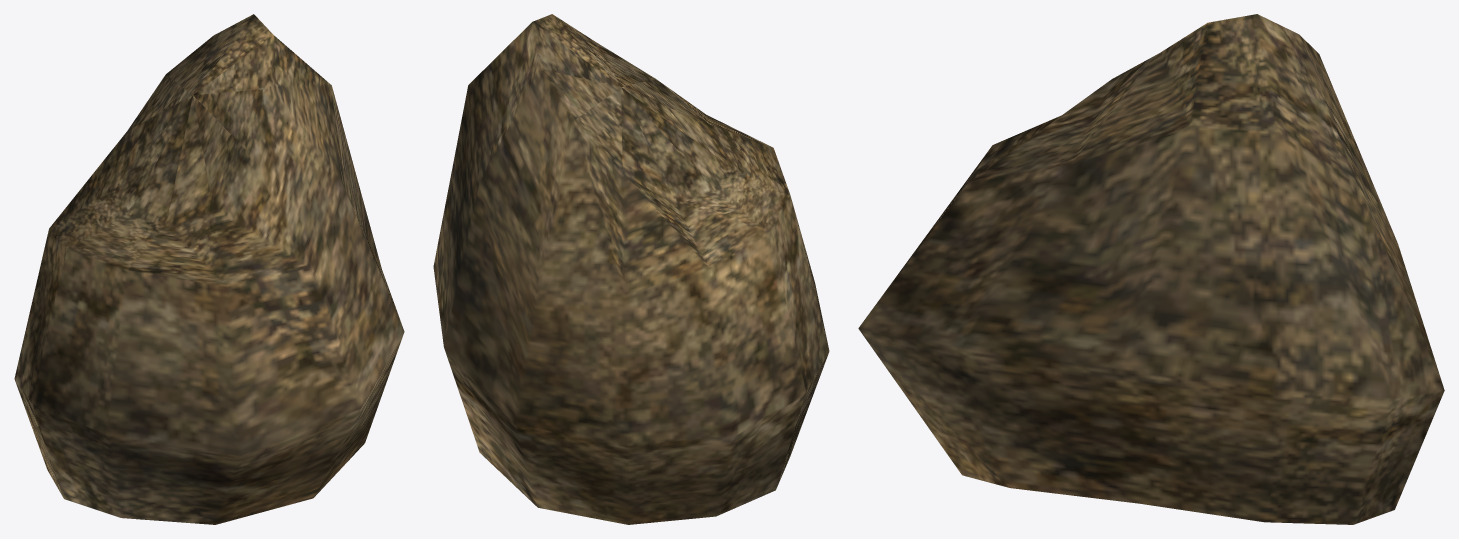
Rendered from CH09_SMAUG_PLAYSURFACE_LONELYMOUNTAIN_LM_PLAYSURFACE14.fbx.
The picture shows the model from 3 angles, left to right: view 1: azimuth 30°, elevation 25°; view 2: azimuth 150°, elevation 25°; view 3: azimuth 270°, elevation 25°; orthographic projection. The views are drawn at different scales.
Visible parts, largest first — view 1: CH09_SMAUG_PLAYSURFACE_LONELYMOUNTAIN_LM_PLAYSURFACE14; view 2: CH09_SMAUG_PLAYSURFACE_LONELYMOUNTAIN_LM_PLAYSURFACE14; view 3: CH09_SMAUG_PLAYSURFACE_LONELYMOUNTAIN_LM_PLAYSURFACE14.
Part boxes in pixels (box(x1,y1,x2,y2)): CH09_SMAUG_PLAYSURFACE_LONELYMOUNTAIN_LM_PLAYSURFACE14: box(14, 14, 404, 524); CH09_SMAUG_PLAYSURFACE_LONELYMOUNTAIN_LM_PLAYSURFACE14: box(433, 14, 829, 524); CH09_SMAUG_PLAYSURFACE_LONELYMOUNTAIN_LM_PLAYSURFACE14: box(858, 14, 1444, 524).
Bounding box in the file's own units: 28536 × 35099 × 34412.
Materials: 1 (1 with a texture image).
